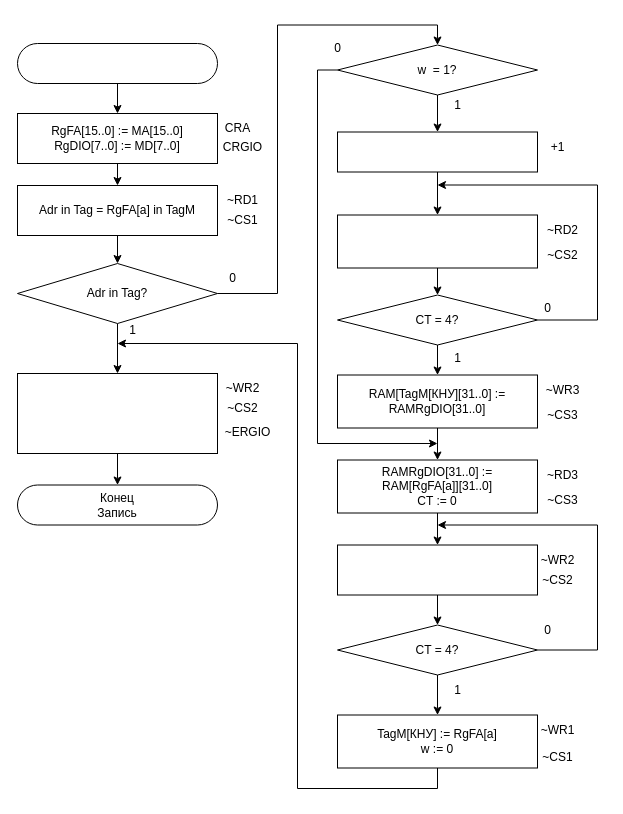
Some shapes in this 623 by 814 pixel diagram are drawn without their labels. The shapes that lost their labels are listed below. From the top down, each one's centre as x and y in pixels, then its label:
the point at 117,63: Начало Запись
the point at 437,151: CT := 0 КНУ[7..0] := КНУ[7..0]+1
the point at 437,241: RAMRgDIO[CT][7..0]:= cache[TagM[КНУ]][CT][7..0] CT := CT + 1
the point at 117,413: cache[TagM(RgFA[a])] := RgDIO[7..0] w := 1
the point at 437,569: cache[TagM[КНУ]][CT][7..0] := RAMRgDIO[CT][7..0] CT := CT + 1
